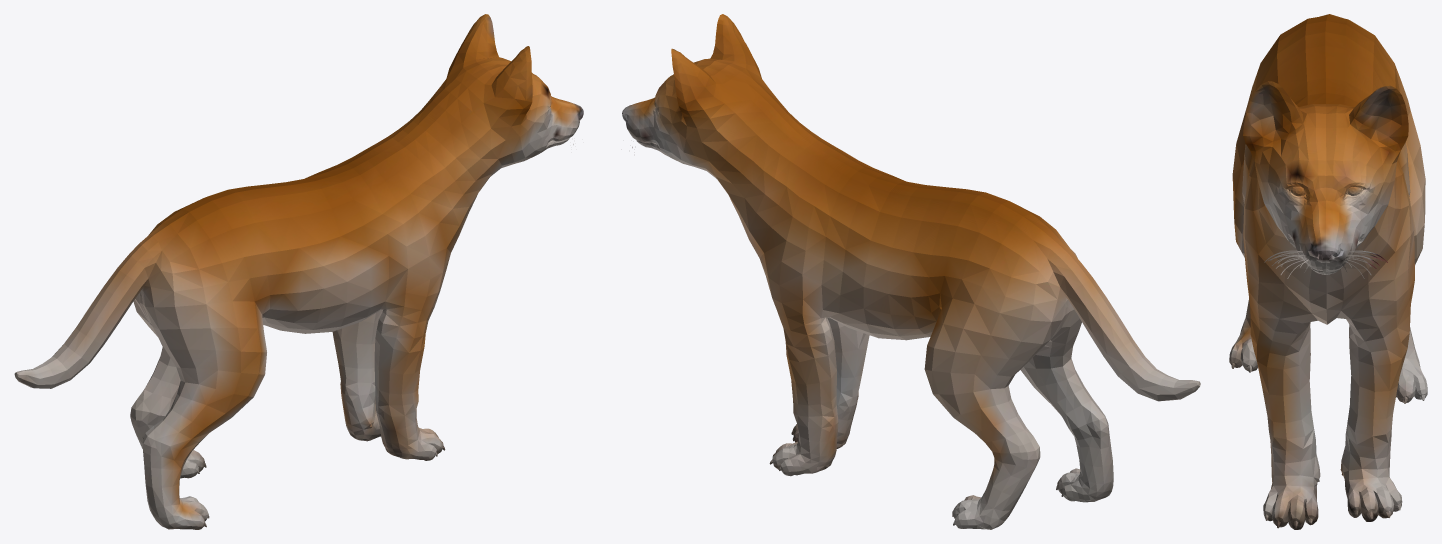
Rendered from dingo.gt.glb.
3 renders of one model, left to right at view 1: azimuth 30°, elevation 25°; view 2: azimuth 150°, elevation 25°; view 3: azimuth 270°, elevation 25°, orthographic. The views are drawn at different scales.
Visible parts, largest first — view 1: root; view 2: root; view 3: root.
Part boxes in pixels (box(x1,y1,x2,y2)): root: box(14, 14, 583, 529); root: box(622, 14, 1200, 529); root: box(1229, 14, 1427, 529).
Bounding box in the file's own units: 0.6273 × 0.4134 × 0.1475.
1 material, 1 textured.
